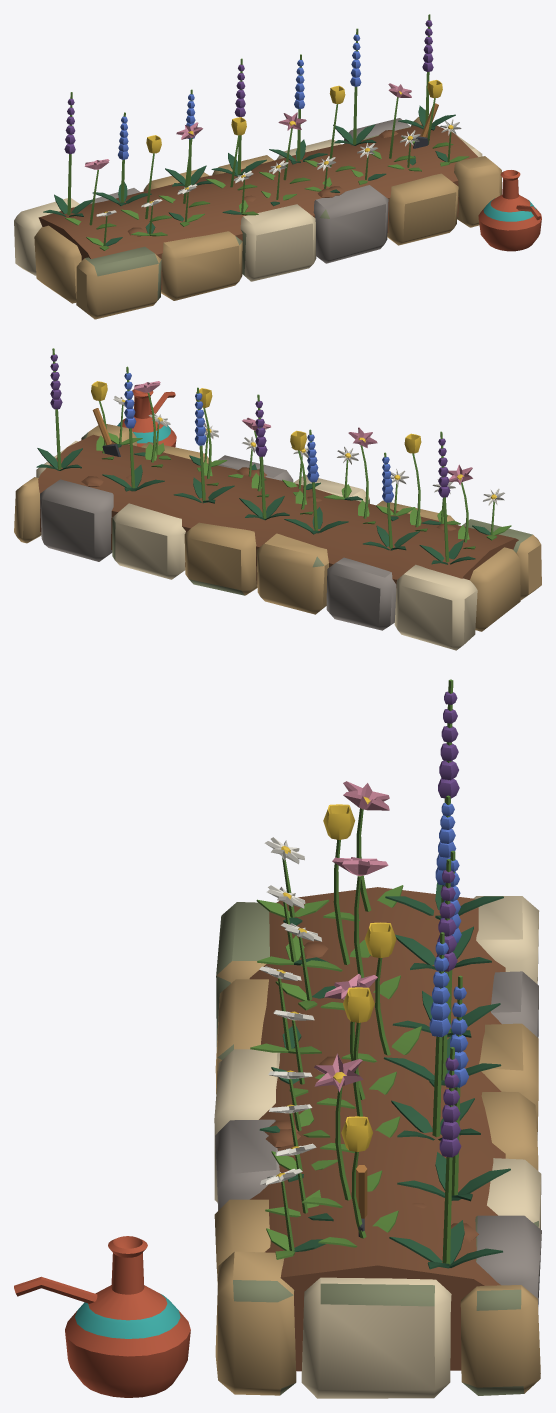
Rendered from deco_flower_bed.fbx.
The picture shows the model from 3 angles, top to bottom: view 1: azimuth 30°, elevation 25°; view 2: azimuth 150°, elevation 25°; view 3: azimuth 270°, elevation 25°; orthographic projection. The views are drawn at different scales.
Parts seen in each view (by area): view 1: FlowerBed_Edge, FlowerBed_Soil, FlowerBed_Flowers, FlowerBed_Tools; view 2: FlowerBed_Edge, FlowerBed_Soil, FlowerBed_Flowers, FlowerBed_Tools; view 3: FlowerBed_Edge, FlowerBed_Soil, FlowerBed_Flowers, FlowerBed_Tools.
Part boxes in pixels (x1=…): FlowerBed_Edge: x1=14, y1=117, x2=501, y2=319; FlowerBed_Soil: x1=38, y1=124, x2=478, y2=289; FlowerBed_Flowers: x1=43, y1=14, x2=469, y2=250; FlowerBed_Tools: x1=413, y1=103, x2=541, y2=251; FlowerBed_Edge: x1=14, y1=424, x2=541, y2=650; FlowerBed_Soil: x1=38, y1=434, x2=518, y2=587; FlowerBed_Flowers: x1=36, y1=348, x2=511, y2=564; FlowerBed_Tools: x1=92, y1=389, x2=176, y2=456; FlowerBed_Edge: x1=214, y1=896, x2=541, y2=1398; FlowerBed_Soil: x1=249, y1=887, x2=505, y2=1371; FlowerBed_Flowers: x1=250, y1=679, x2=510, y2=1269; FlowerBed_Tools: x1=14, y1=1165, x2=367, y2=1397.
Size of the model in its own units: 305 by 124 by 165.
